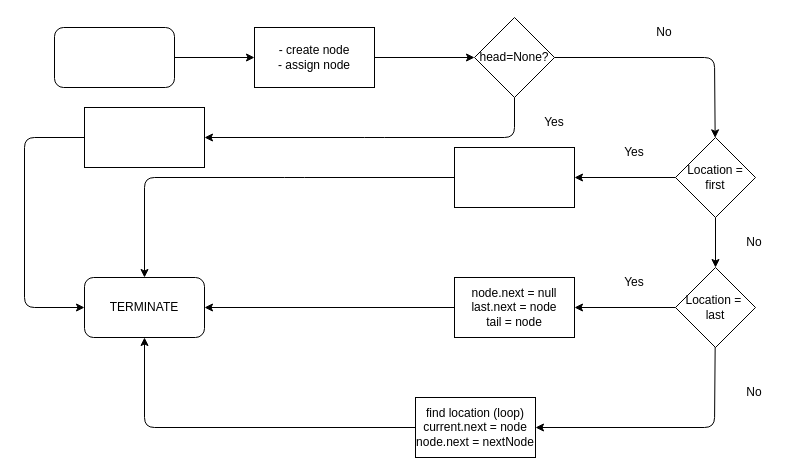
This 802x475 diagram has some shape labels left out. The shapes that lost their labels are listed below. From the top down, each one's box as (x1, y1, x2, y2) in pixels, then its label:
(54, 26, 174, 88): Node value Location
(84, 106, 204, 168): - head = node - tail = node
(454, 146, 574, 208): node.next = head head = node
